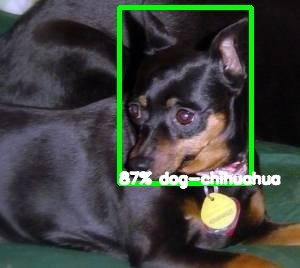dog-miniature_pinscher: (126, 1, 250, 182)
